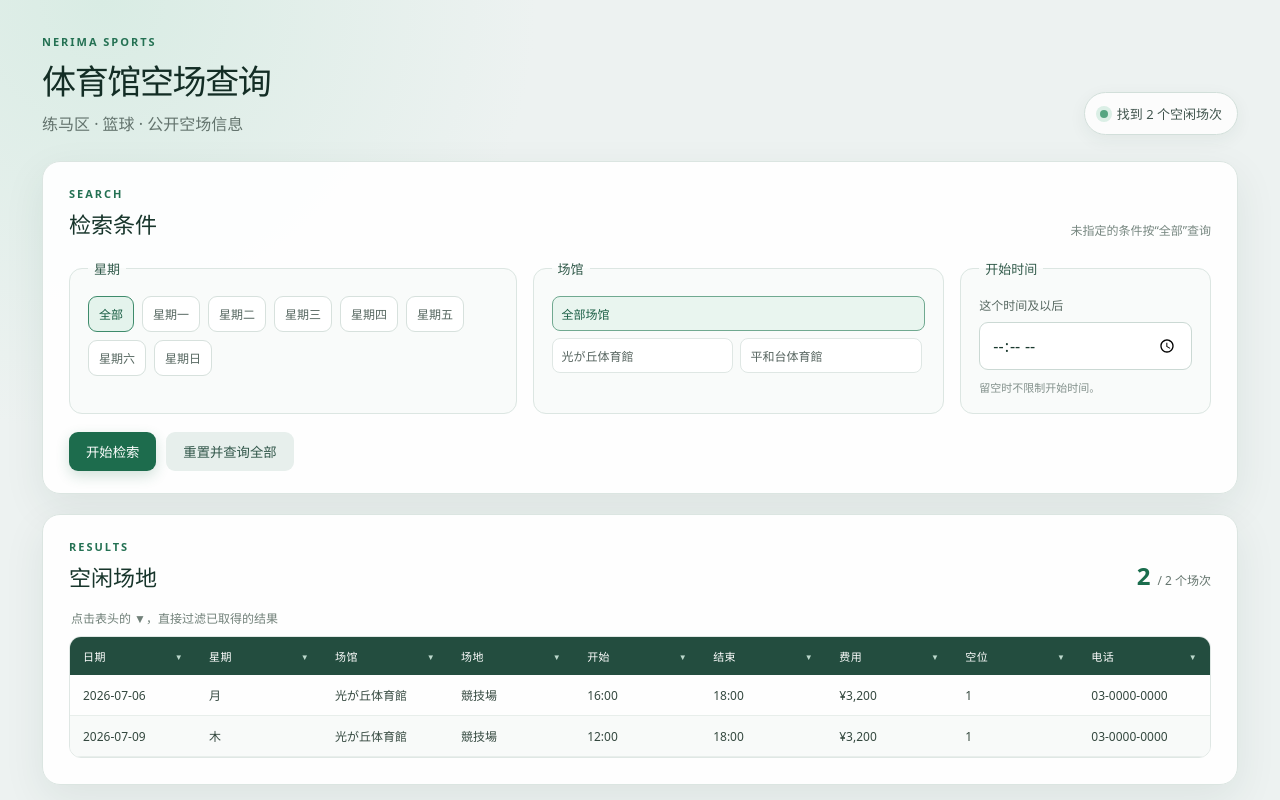
Test: App › filters fetched results from a column menu without searching again
Expected: the text "2026-07-09" is shown, [70,716,196,756]
Click the heading named "过滤星期".
click(220, 656)  # box [209,648,309,664]
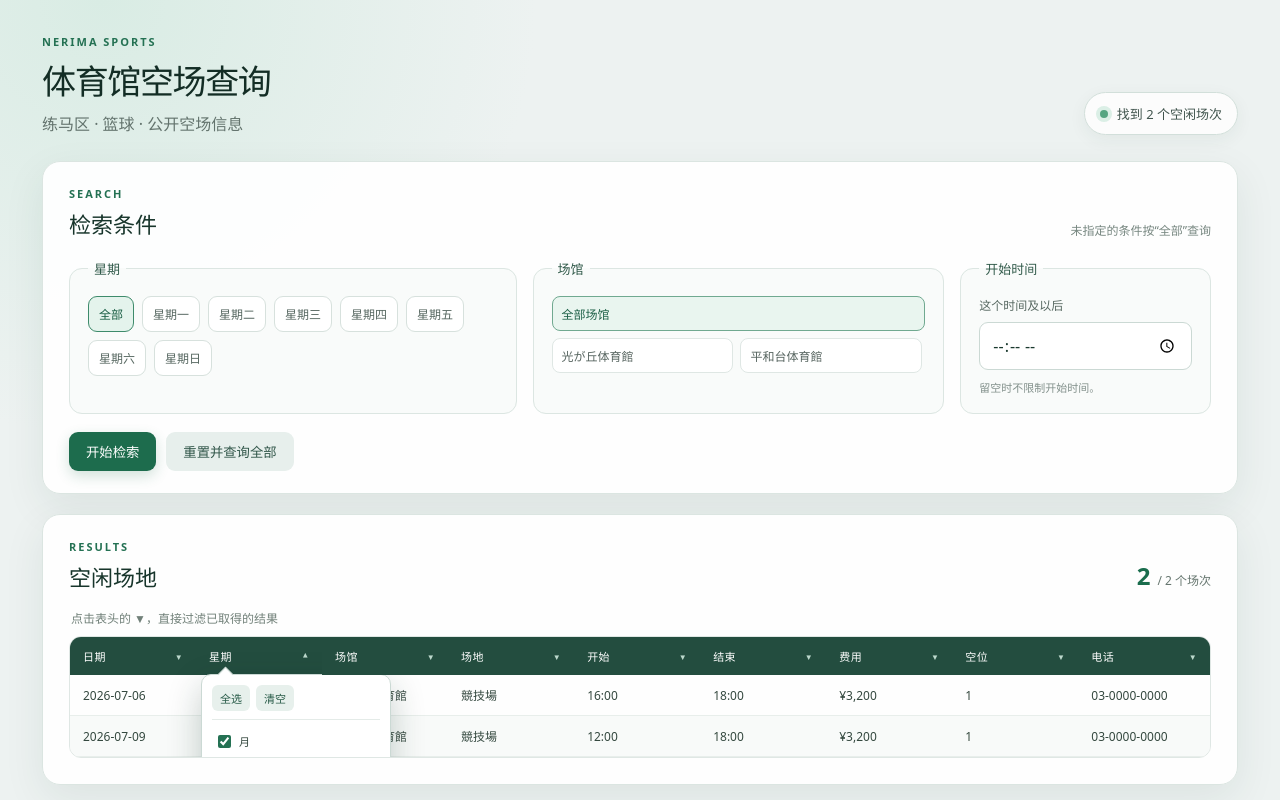
Click the checkbox labelled "月".
click(224, 741)  # box [218,734,231,748]
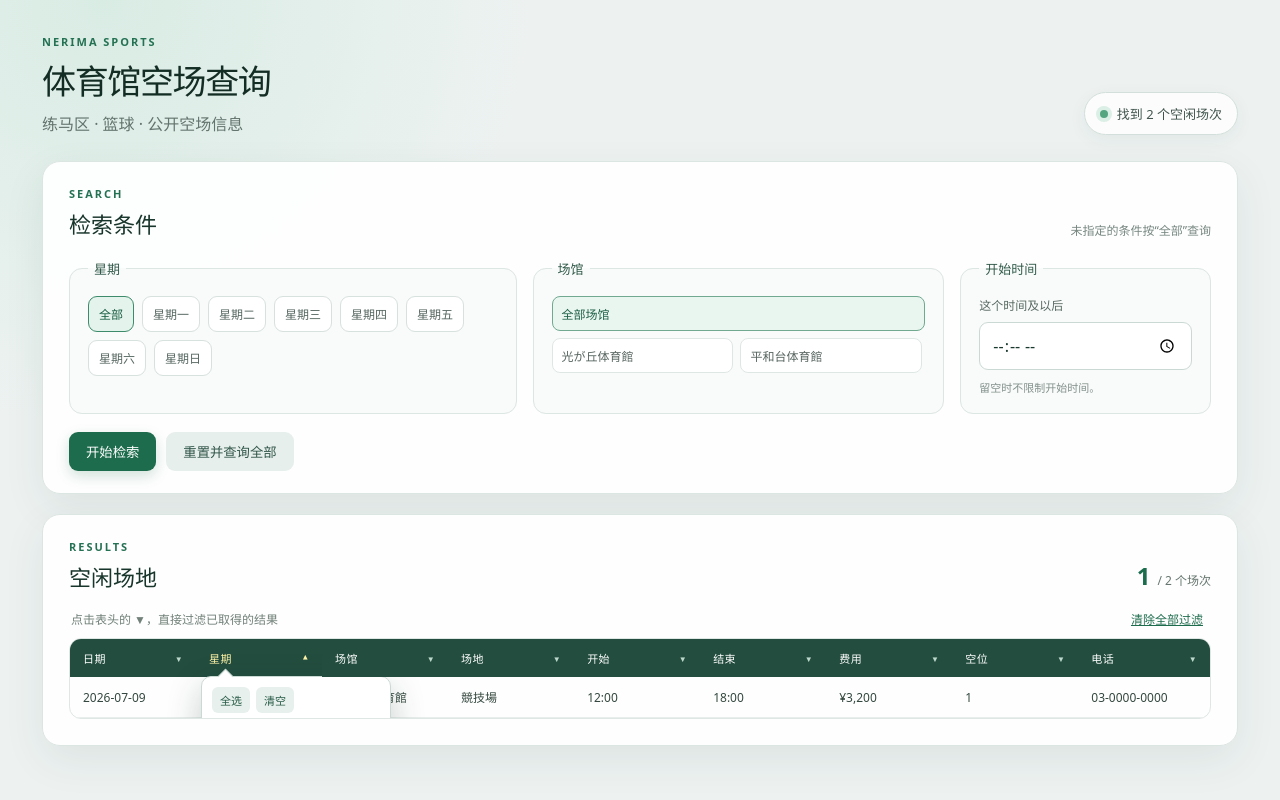
Expected: the text "2026-07-09" is shown, [70,677,196,718]
Result: the text "2026-07-06" is gone
Result: the element showing "1 / 2 个场次" is shown at [1137,559,1211,592]
